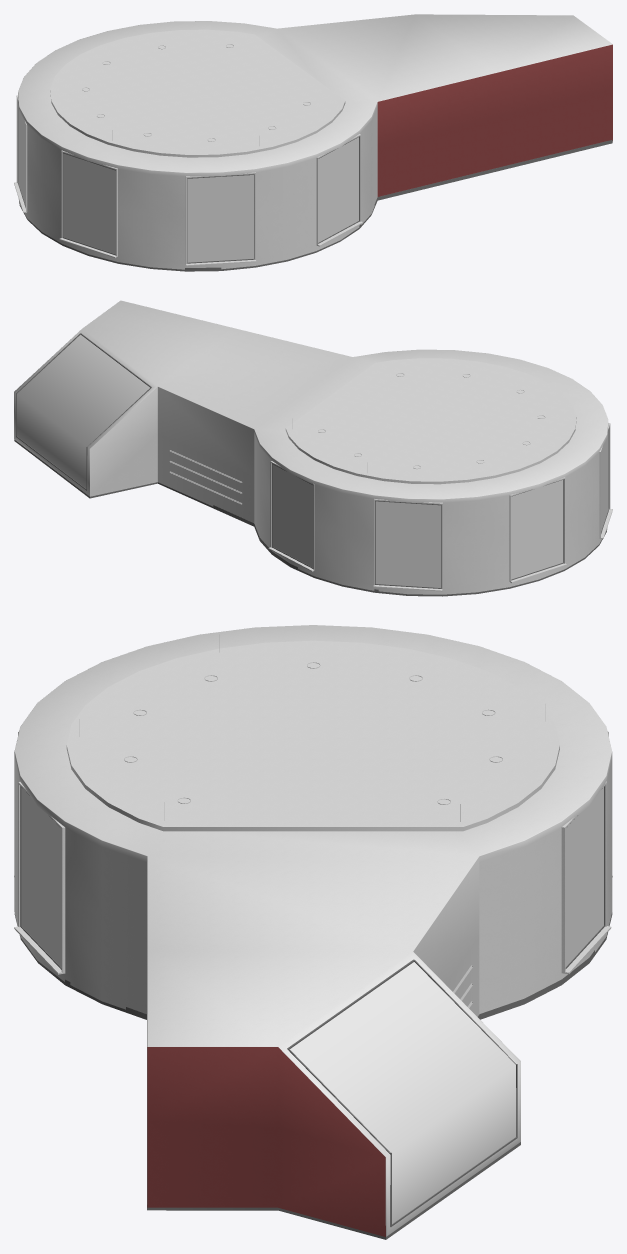
Rendered from Circle_room_base.fbx.
3 views of the same model, one above another, from view 1: azimuth 30°, elevation 25°; view 2: azimuth 150°, elevation 25°; view 3: azimuth 270°, elevation 25° (orthographic). The views are drawn at different scales.
Visible parts, largest first — view 1: Circle, Cube.013, Cube.017; view 2: Circle, Cube.013, Cube.017, Cube.018; view 3: Circle, Cube.013, Cube.017.
Boxes of the visible parts, x1,y1,x2,y2 form: Circle: (18, 14, 612, 269); Cube.013: (14, 95, 363, 266); Cube.017: (19, 140, 612, 271); Circle: (14, 300, 608, 594); Cube.013: (268, 423, 612, 591); Cube.017: (14, 439, 606, 596); Cube.018: (169, 450, 242, 504); Circle: (14, 625, 612, 1236); Cube.013: (14, 731, 612, 974); Cube.017: (14, 912, 612, 1239).
Size of the model in its own units: 2151 by 419 by 1205.
